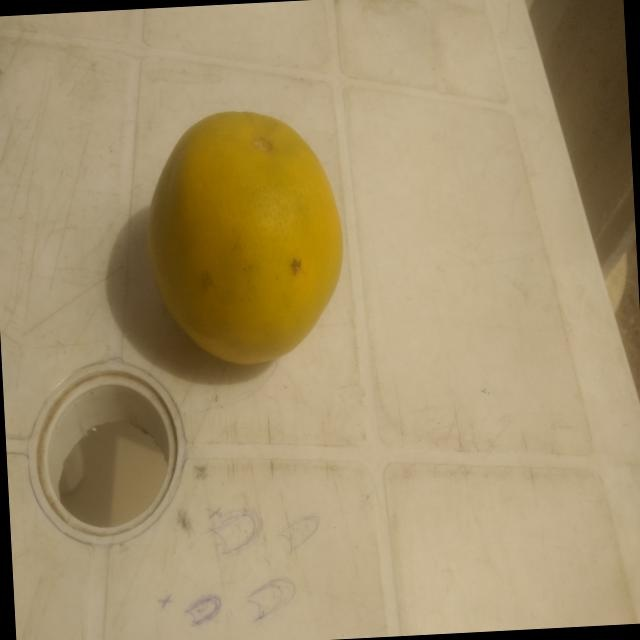agrume: (136, 98, 352, 374)
